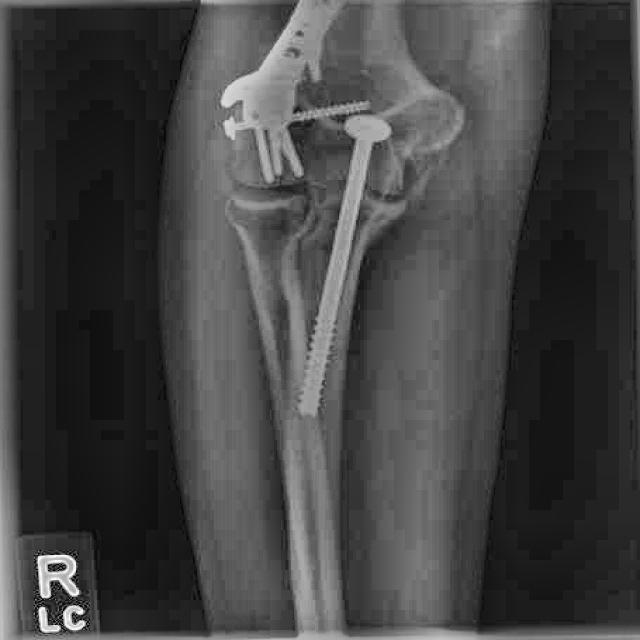elbow positive: (360, 149, 447, 237)
